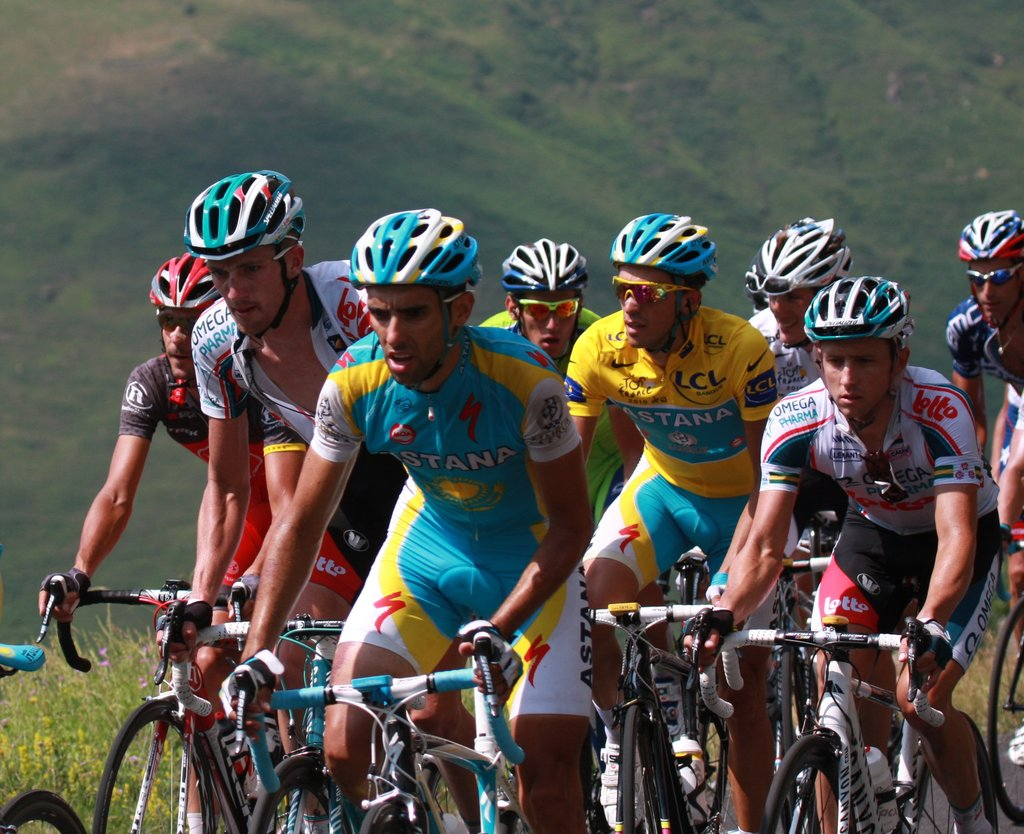Bike_toward: (41, 564, 247, 834), (220, 645, 491, 834)
